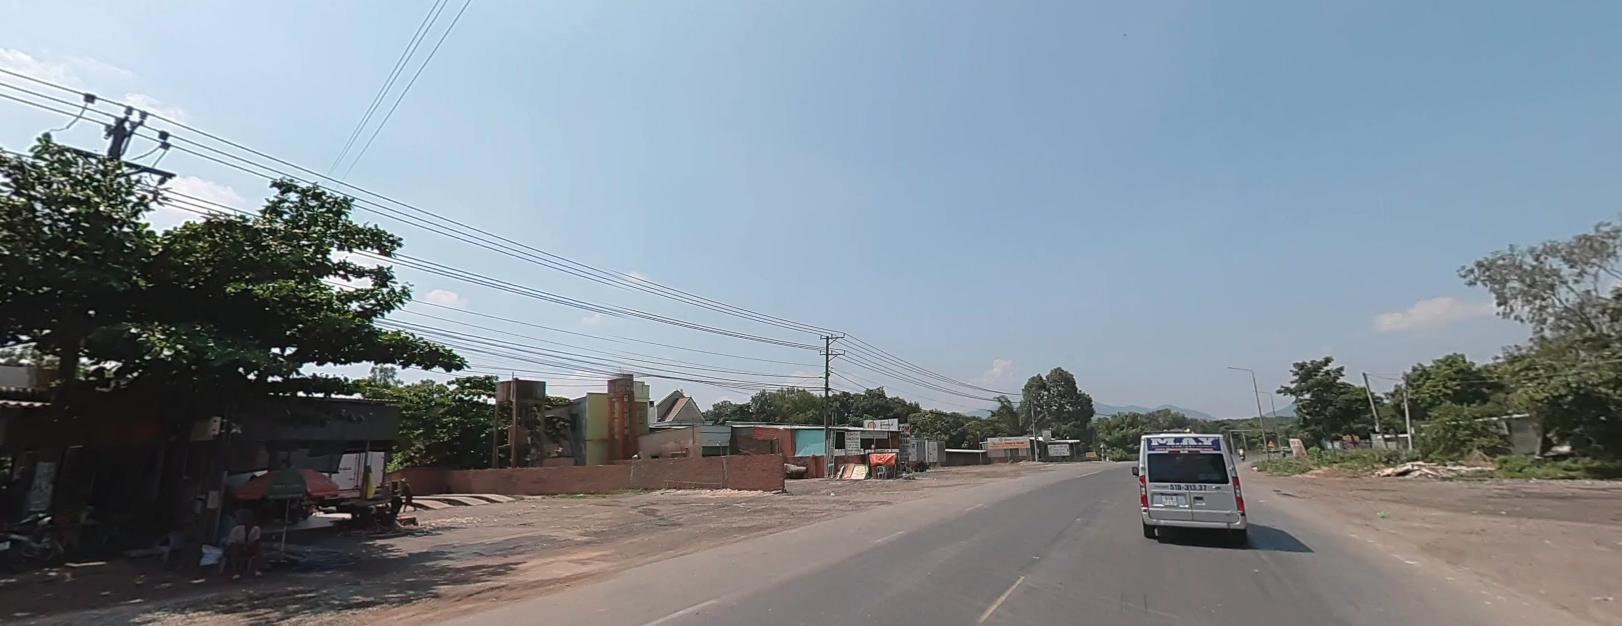Nguy hiem: (1266, 438, 1274, 446)
